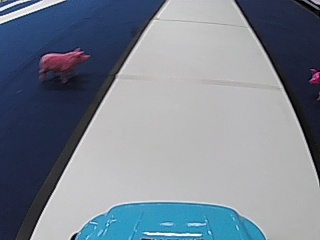pig: (37, 44, 88, 83), (307, 68, 319, 87)
